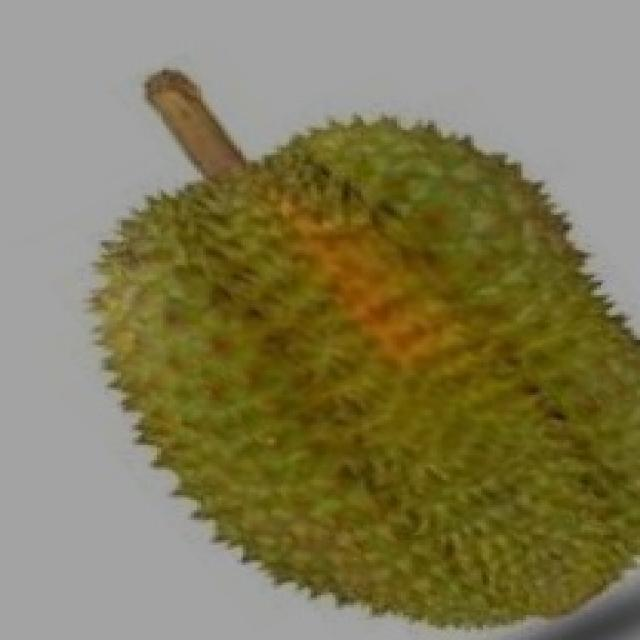fruit: (43, 237, 419, 635), (283, 255, 640, 640)
